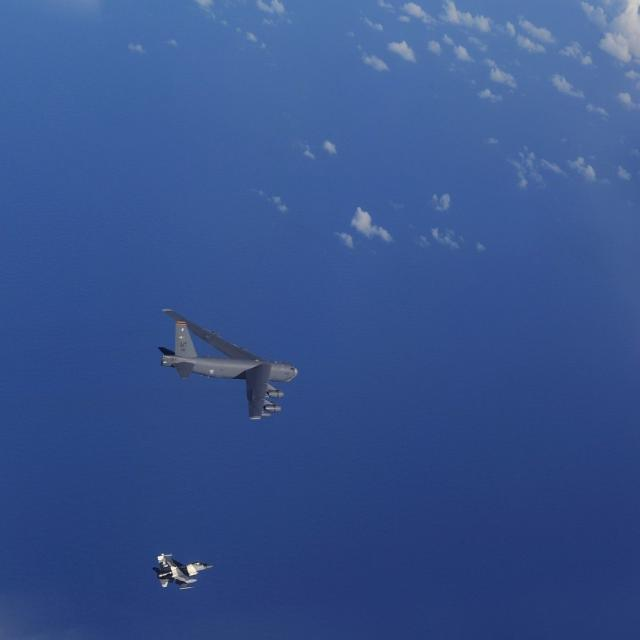MIL_Plane: (157, 308, 299, 420), (152, 552, 214, 590)
